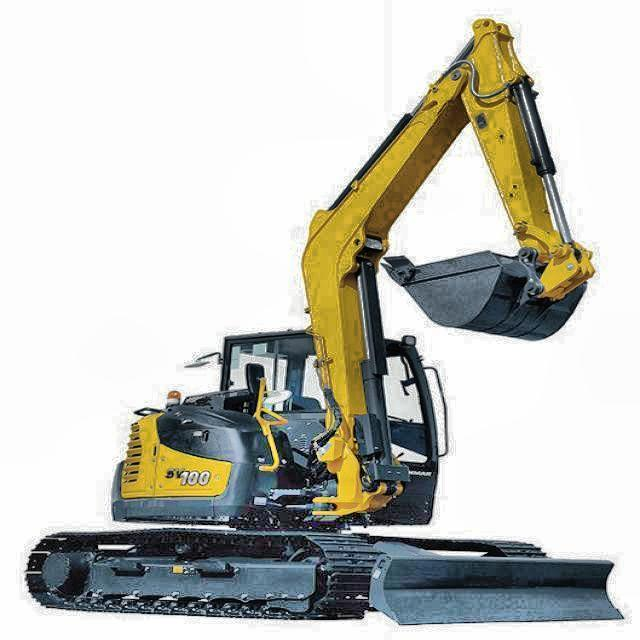excavator: (26, 12, 636, 619)
